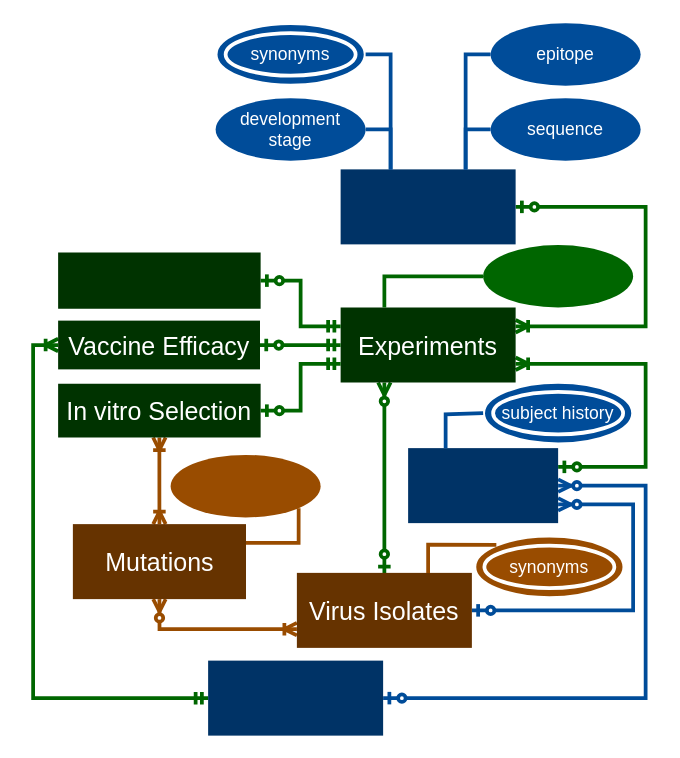
Some shapes in this 680 by 758 pixel diagram are drawn without their labels. The shapes that lost their labels are listed below. From the top down, each one's centre as x and y in pixels, then its label:
[427,206]: Antibodies
[159,280]: Neutralization
[557,275]: reference (table/figure)
[245,485]: Selection Analysis
[483,485]: Plasma (CP/VP)
[295,697]: Vaccine
